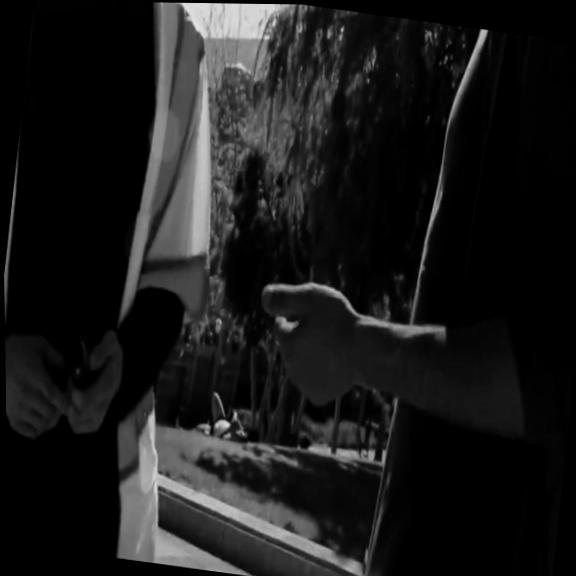safety_vest: (0, 0, 245, 567)
